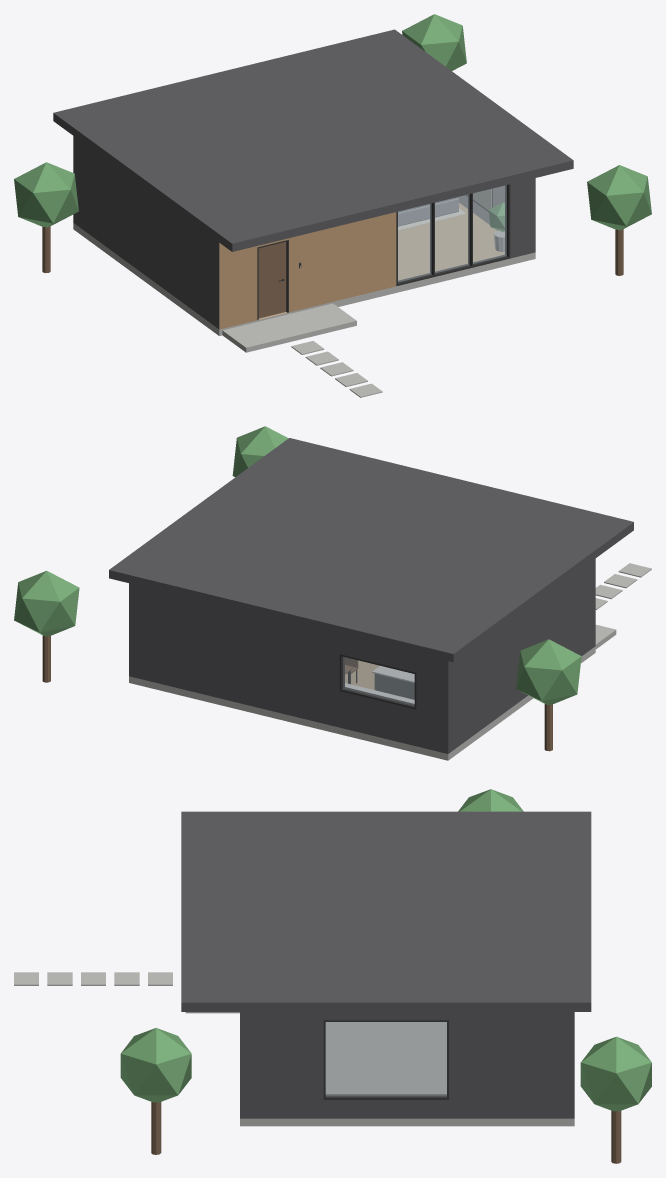
Rendered from SmartHouse.fbx.
3 views of the same model, one above another, from view 1: azimuth 30°, elevation 25°; view 2: azimuth 150°, elevation 25°; view 3: azimuth 270°, elevation 25° (orthographic). The views are drawn at different scales.
Parts seen in each view (by area): view 1: Static_Roof, Static_Walls, Static_Exterior_Porch, Static_Window_Glass, Static_Floor, Static_Window_Frames, Device_Door_Front, Static_Furniture; view 2: Static_Roof, Static_Walls, Static_Exterior_Porch, Static_Floor, Static_Window_Glass, Static_Furniture, Static_Window_Frames; view 3: Static_Roof, Static_Walls, Static_Exterior_Porch, Static_Window_Glass, Curtain_Shade, Static_Floor, Static_Window_Frames.
Part boxes in pixels (box(x1,y1,x2,y2)): Static_Roof: box(53, 29, 573, 251); Static_Walls: box(73, 136, 535, 329); Static_Exterior_Porch: box(14, 14, 651, 397); Static_Window_Glass: box(398, 185, 506, 282); Static_Floor: box(73, 203, 535, 335); Static_Window_Frames: box(257, 184, 510, 319); Device_Door_Front: box(258, 242, 286, 318); Static_Furniture: box(398, 197, 504, 251); Static_Roof: box(109, 438, 633, 662); Static_Walls: box(129, 558, 595, 753); Static_Exterior_Porch: box(14, 426, 651, 751); Static_Floor: box(129, 646, 595, 760); Static_Window_Glass: box(343, 657, 414, 705); Static_Furniture: box(345, 657, 414, 703); Static_Window_Frames: box(339, 654, 416, 709); Static_Roof: box(181, 811, 591, 1011); Static_Walls: box(240, 1012, 574, 1118); Static_Exterior_Porch: box(14, 789, 651, 1163); Static_Window_Glass: box(326, 1022, 446, 1095); Curtain_Shade: box(325, 1022, 446, 1094); Static_Floor: box(240, 1118, 574, 1126); Static_Window_Frames: box(323, 1020, 448, 1099).
Size of what is drawn, in the model's own units: 15.79 by 3.45 by 15.25.
